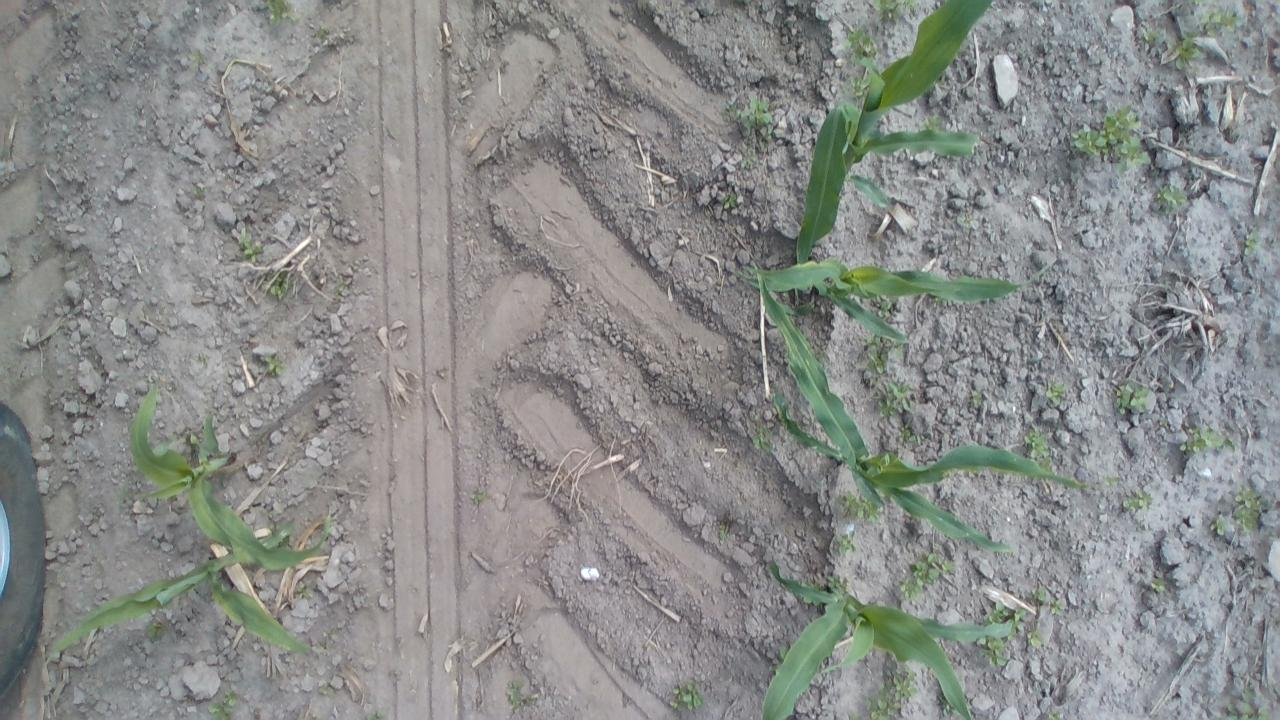Maize: (748, 263, 1100, 567), (741, 104, 1033, 351), (754, 550, 1026, 718), (116, 374, 337, 572), (54, 517, 320, 673), (834, 2, 1000, 214)
Weeds: (1065, 105, 1153, 172), (724, 91, 780, 148), (874, 374, 919, 422), (831, 493, 887, 529), (1178, 420, 1236, 454), (1217, 682, 1271, 718), (1230, 482, 1266, 532), (977, 600, 1028, 634), (1199, 4, 1244, 42), (850, 687, 900, 720), (1028, 586, 1070, 624), (842, 28, 881, 67), (1164, 36, 1204, 74), (861, 332, 894, 376), (980, 638, 1020, 674), (1151, 178, 1189, 215), (1113, 381, 1151, 417), (669, 676, 704, 714), (872, 0, 924, 25), (916, 552, 954, 585), (233, 228, 263, 268), (890, 570, 922, 606), (502, 676, 532, 714), (1236, 226, 1266, 262), (263, 0, 301, 28), (830, 526, 860, 561), (1134, 21, 1166, 53), (1042, 378, 1074, 409), (266, 270, 297, 302), (205, 689, 238, 719), (752, 423, 786, 452), (1020, 430, 1052, 460), (848, 73, 876, 107), (888, 671, 919, 700), (1121, 491, 1155, 516), (259, 350, 288, 378), (916, 112, 949, 136), (953, 204, 982, 231), (894, 425, 921, 449), (719, 186, 746, 209), (141, 619, 166, 642), (738, 150, 758, 178), (1147, 580, 1178, 597), (871, 294, 891, 320), (333, 278, 352, 304), (967, 388, 990, 409), (364, 704, 394, 720), (712, 521, 734, 542), (1022, 628, 1044, 649), (286, 581, 309, 601), (1212, 514, 1232, 537), (190, 50, 207, 72), (313, 21, 328, 45), (468, 490, 486, 506), (1040, 711, 1070, 720), (192, 188, 208, 198)
